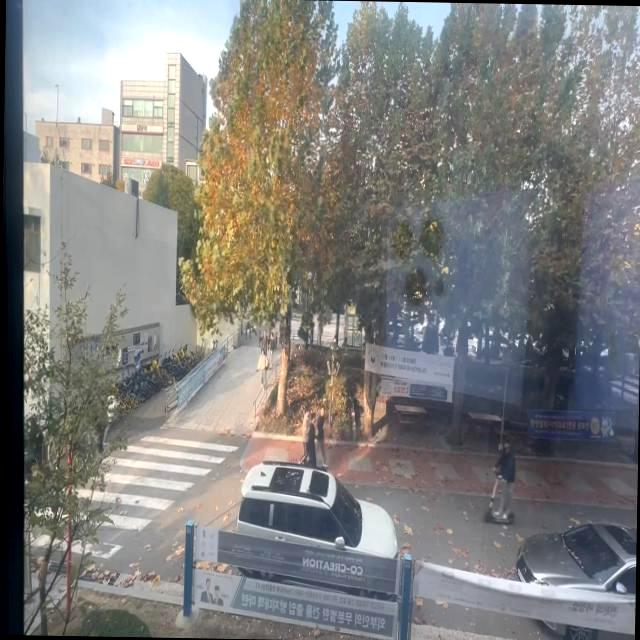bare_head: (502, 440, 517, 458)
human: (501, 438, 519, 517)
kickboard: (481, 504, 529, 530)
